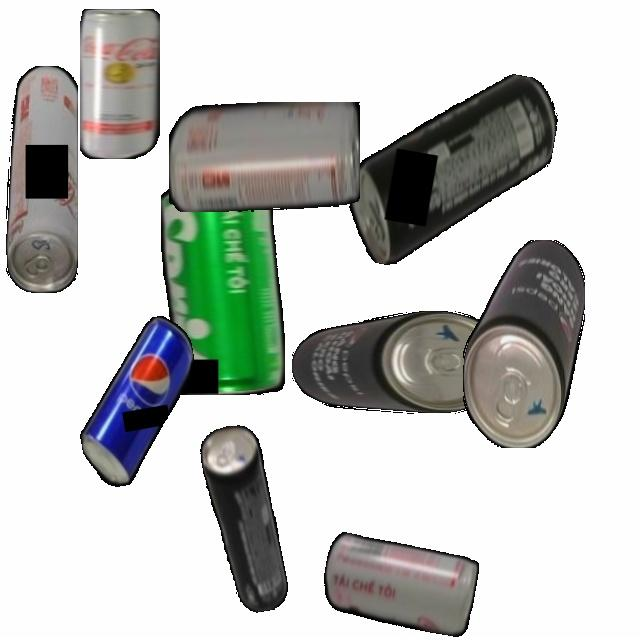debris: (341, 51, 564, 289), (63, 312, 213, 491), (161, 186, 285, 395), (462, 239, 585, 448), (291, 311, 504, 414), (168, 101, 360, 212), (197, 421, 291, 617), (318, 531, 481, 638), (5, 65, 78, 293), (80, 8, 160, 159)
